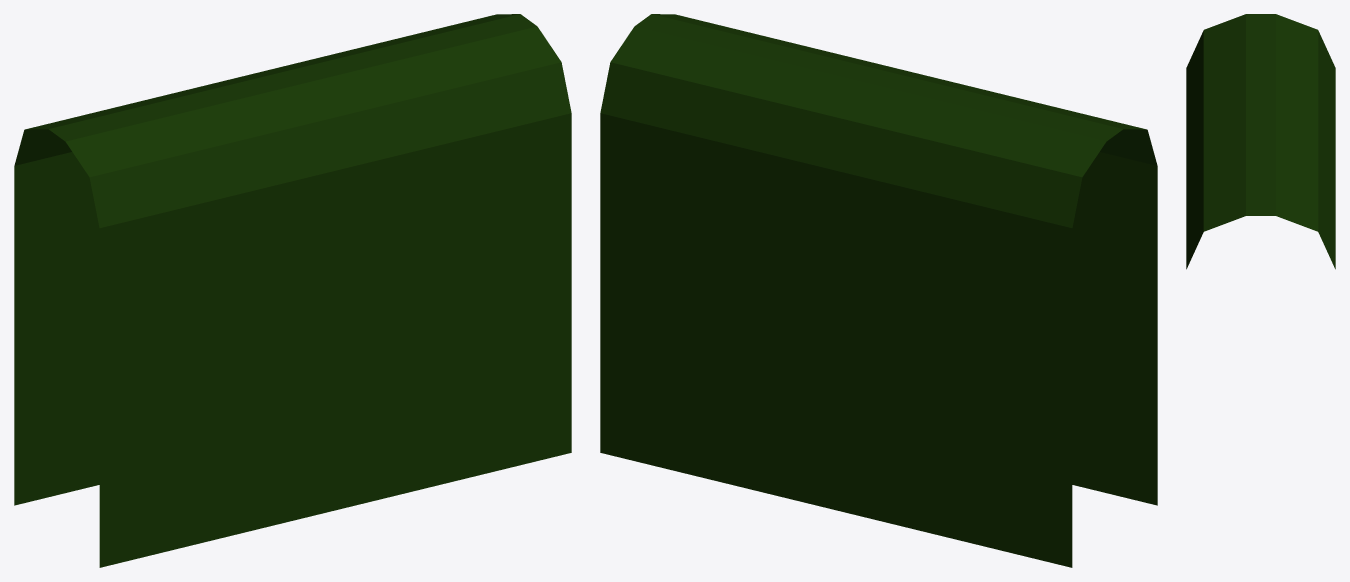
The model's file is HedgeMiddle.FBX.
3 renders of one model, left to right at view 1: azimuth 30°, elevation 25°; view 2: azimuth 150°, elevation 25°; view 3: azimuth 270°, elevation 25°, orthographic. The views are drawn at different scales.
Visible parts, largest first — view 1: bush; view 2: bush; view 3: bush.
Boxes of the visible parts, x1,y1,x2,y2 form: bush: [14, 14, 571, 567]; bush: [600, 14, 1157, 567]; bush: [1186, 14, 1335, 269].
Size of the model in its own units: 1.6 by 1.3 by 0.5.
